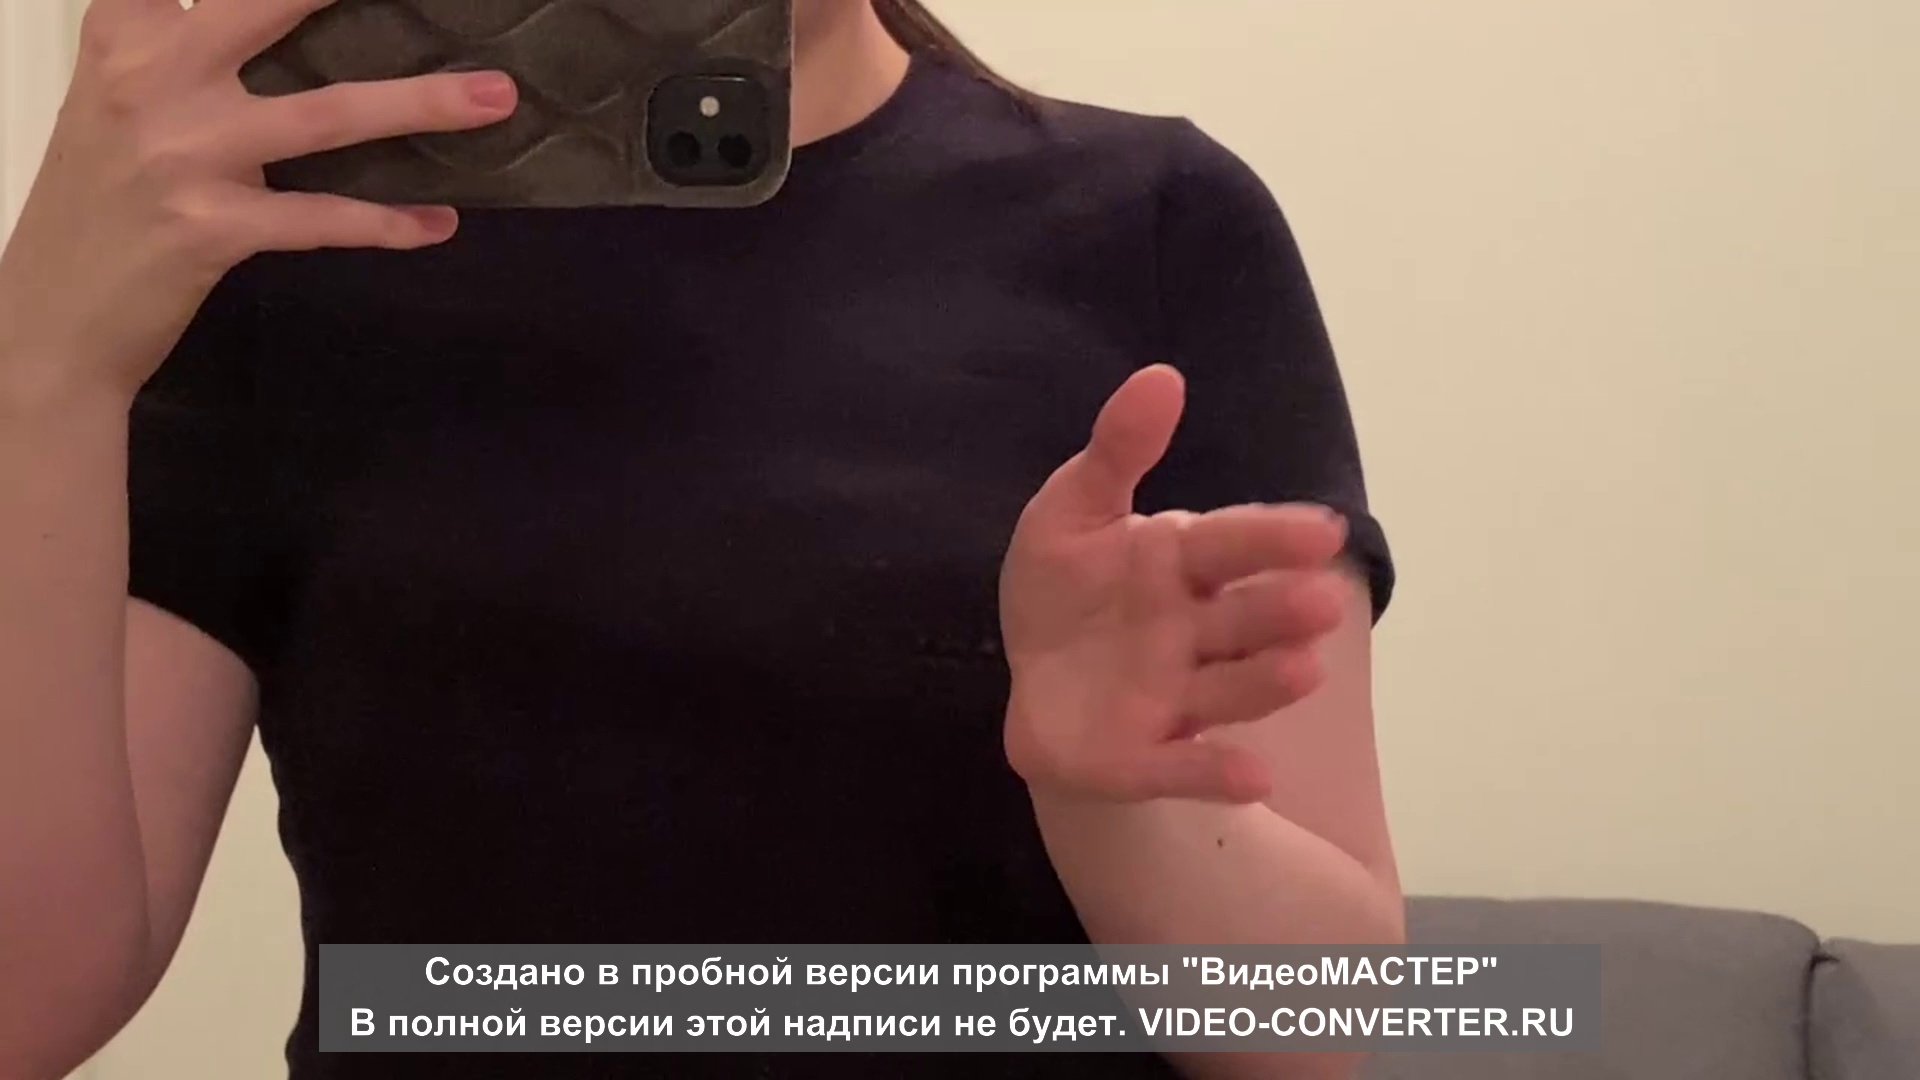Ладонь: (998, 360, 1349, 806)
